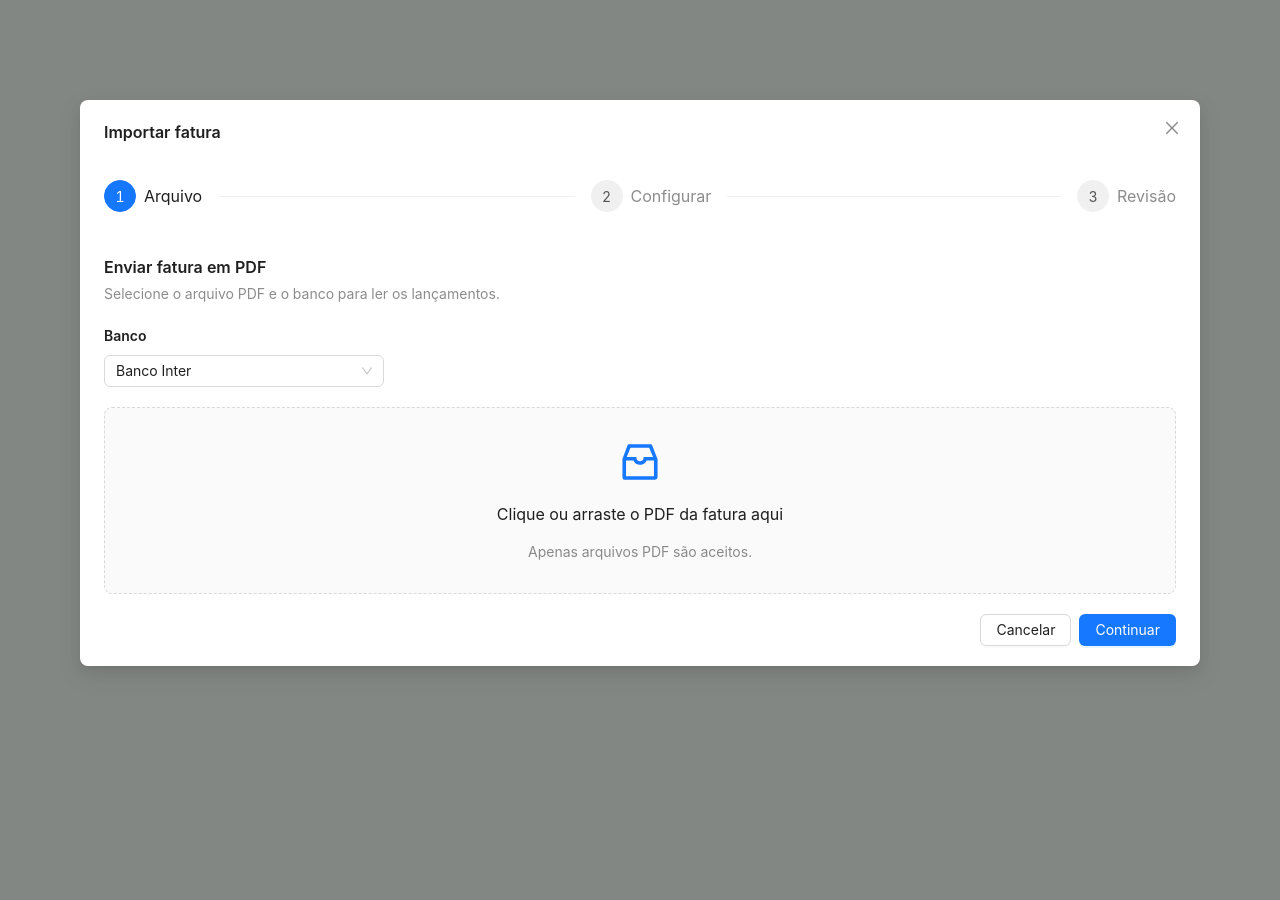
Test case: InvoiceImportDrawer › blocks parse and warns when no file is selected
This screenshot has width=1280, height=900.
Click the button "Continuar". click: (1128, 630)
box: [1080,614,1176,646]
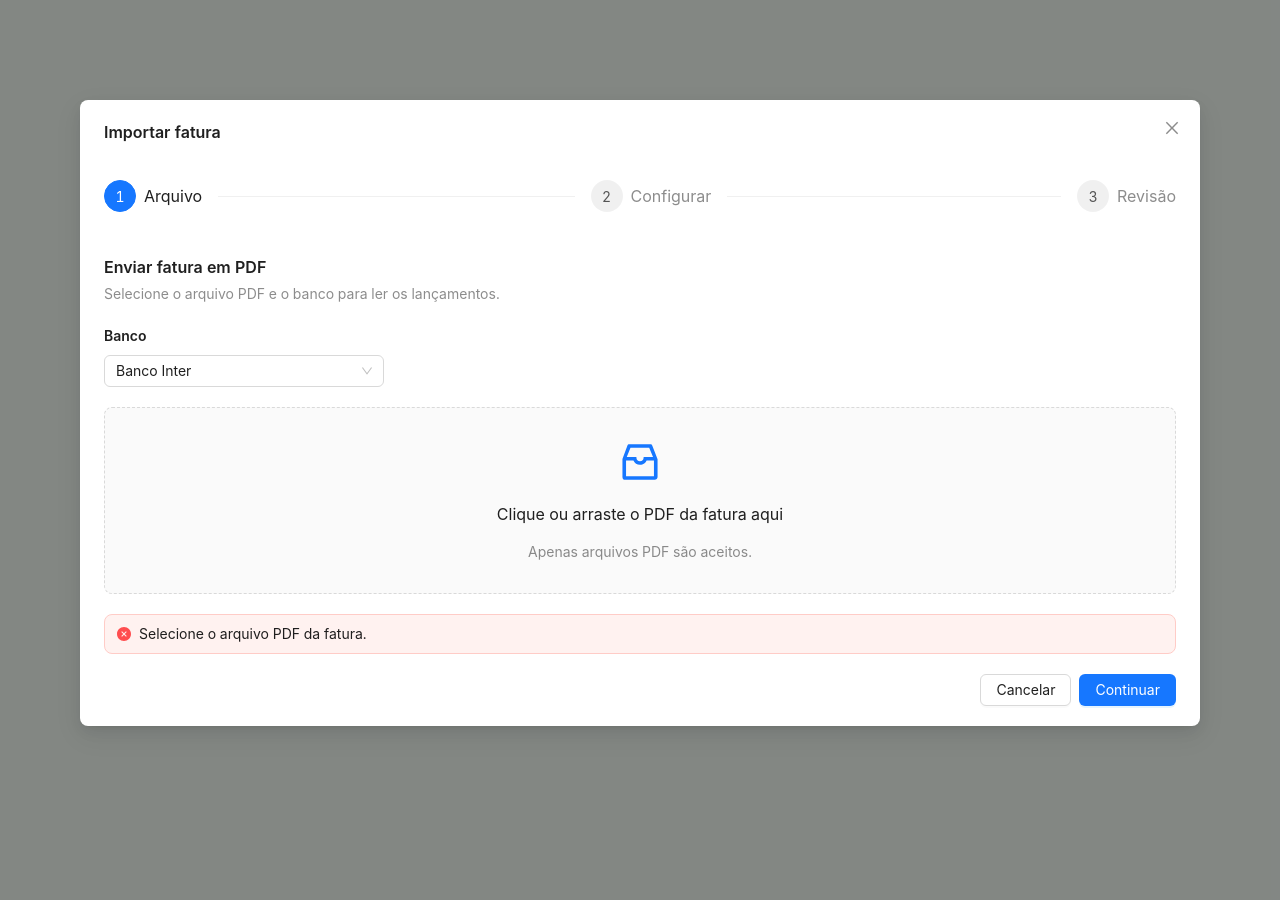
Check: the text "Selecione o arquivo PDF da fatura." is shown, box [139,625,367,642]
